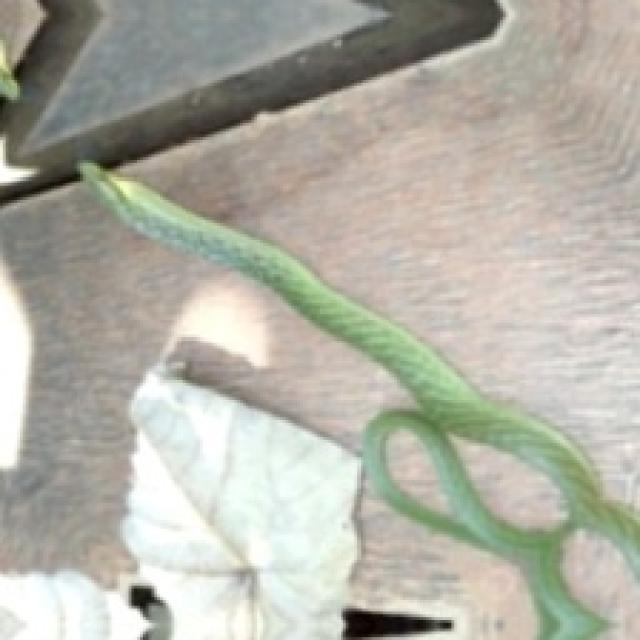red-tailed green ratsnake: (80, 163, 637, 637)
